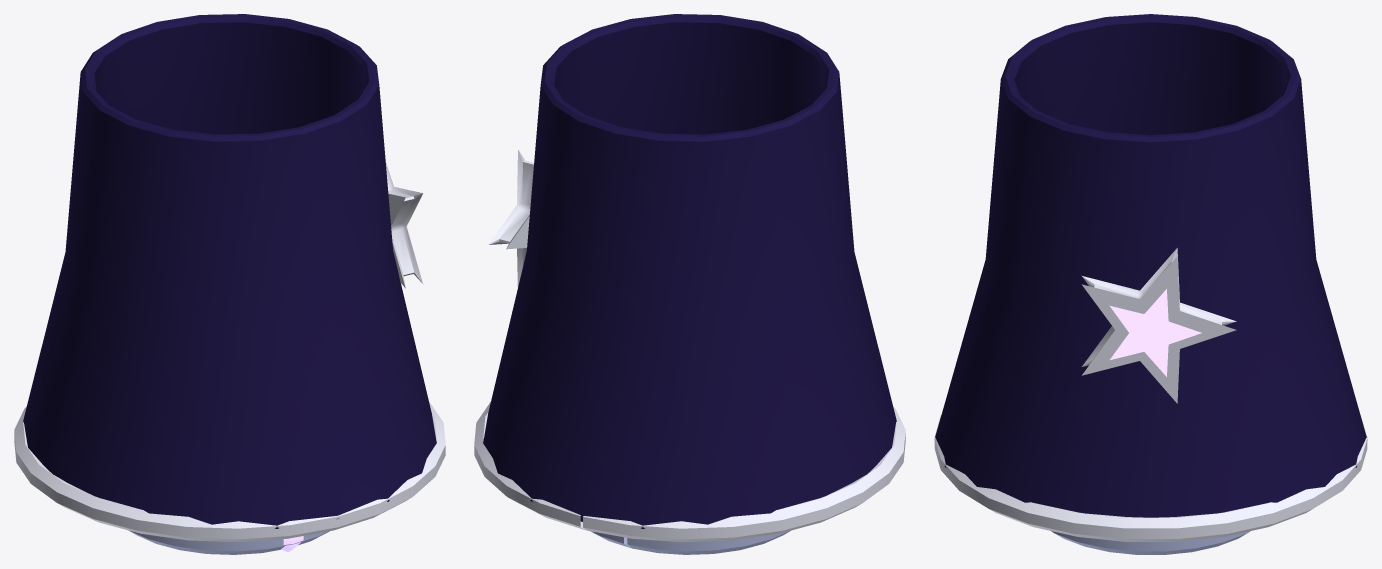
File: asc_astral_magister_gloves.glb
The picture shows the model from 3 angles, left to right: view 1: azimuth 30°, elevation 25°; view 2: azimuth 150°, elevation 25°; view 3: azimuth 270°, elevation 25°; orthographic projection.
Parts seen in each view (by area): view 1: asc_astral_magister_gloves; view 2: asc_astral_magister_gloves; view 3: asc_astral_magister_gloves.
Boxes of the visible parts, x1,y1,x2,y2 form: asc_astral_magister_gloves: [14, 14, 445, 554]; asc_astral_magister_gloves: [474, 14, 905, 554]; asc_astral_magister_gloves: [934, 14, 1367, 554].
Size of the model in its own units: 0.221 by 0.2464 by 0.2227.
